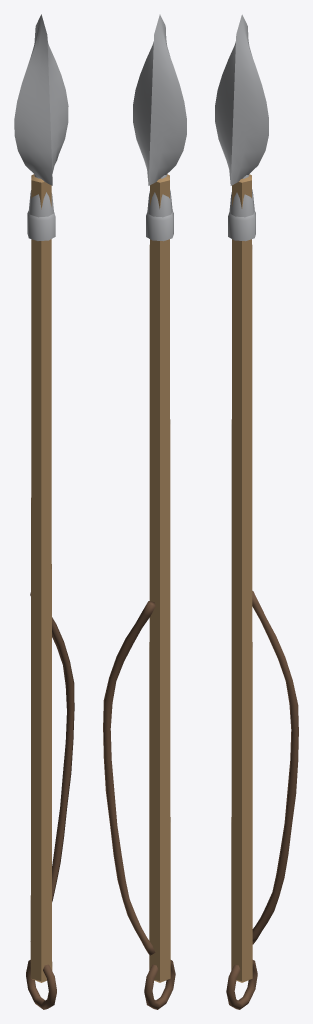
File: spear-sling.glb
The picture shows the model from 3 angles, left to right: view 1: azimuth 30°, elevation 25°; view 2: azimuth 150°, elevation 25°; view 3: azimuth 330°, elevation 25°; orthographic projection.
Visible parts, largest first — view 1: spear-sling; view 2: spear-sling; view 3: spear-sling.
Part boxes in pixels (<box>): spear-sling: <box>14,14,74,1009</box>; spear-sling: <box>103,14,186,1009</box>; spear-sling: <box>215,14,298,1009</box>.
Size of the model in its own units: 0.1077 by 1.42 by 0.0729.
